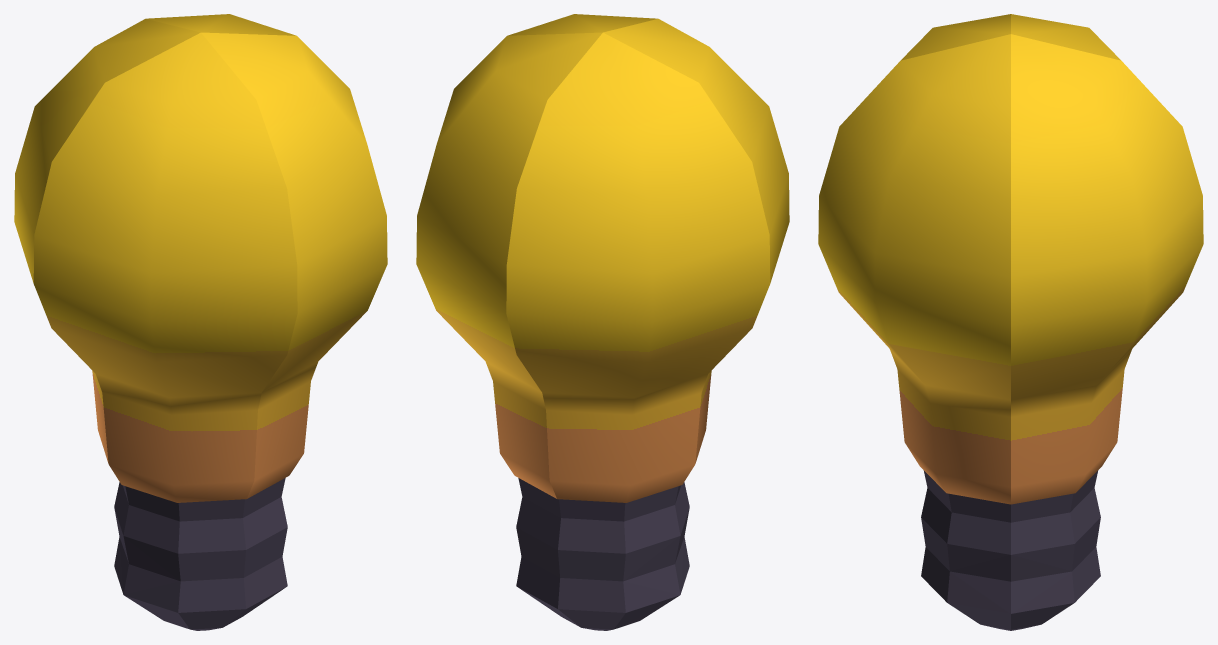
File: Electric.fbx
3 views of the same model, side by side, from view 1: azimuth 30°, elevation 25°; view 2: azimuth 150°, elevation 25°; view 3: azimuth 270°, elevation 25° (orthographic).
Visible parts, largest first — view 1: _electric_bulb:polySurface1; view 2: _electric_bulb:polySurface1; view 3: _electric_bulb:polySurface1.
Boxes of the visible parts, box(x1,y1,x2,y2) form: _electric_bulb:polySurface1: box(14, 14, 387, 630); _electric_bulb:polySurface1: box(416, 14, 789, 630); _electric_bulb:polySurface1: box(818, 14, 1203, 630).
Bounding box in the file's own units: 0.5645 × 0.9549 × 0.5645.
